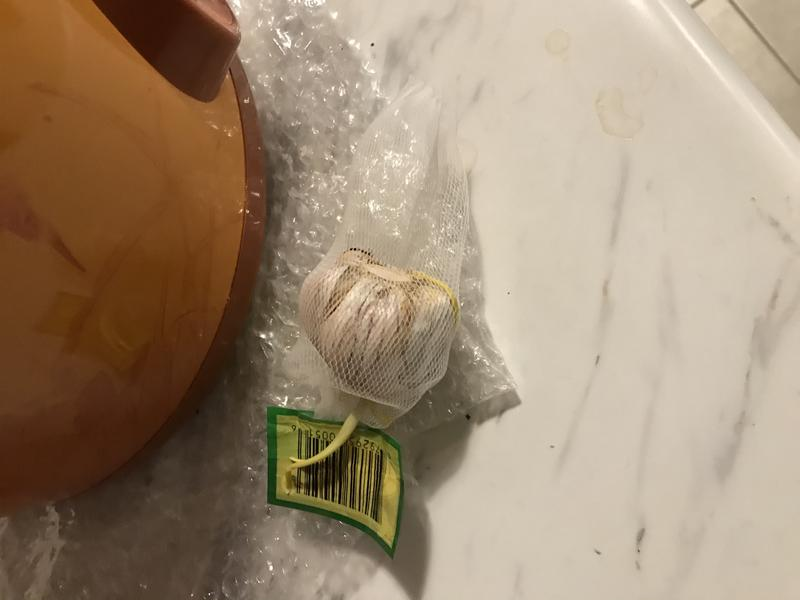garlic: (289, 243, 468, 397)
